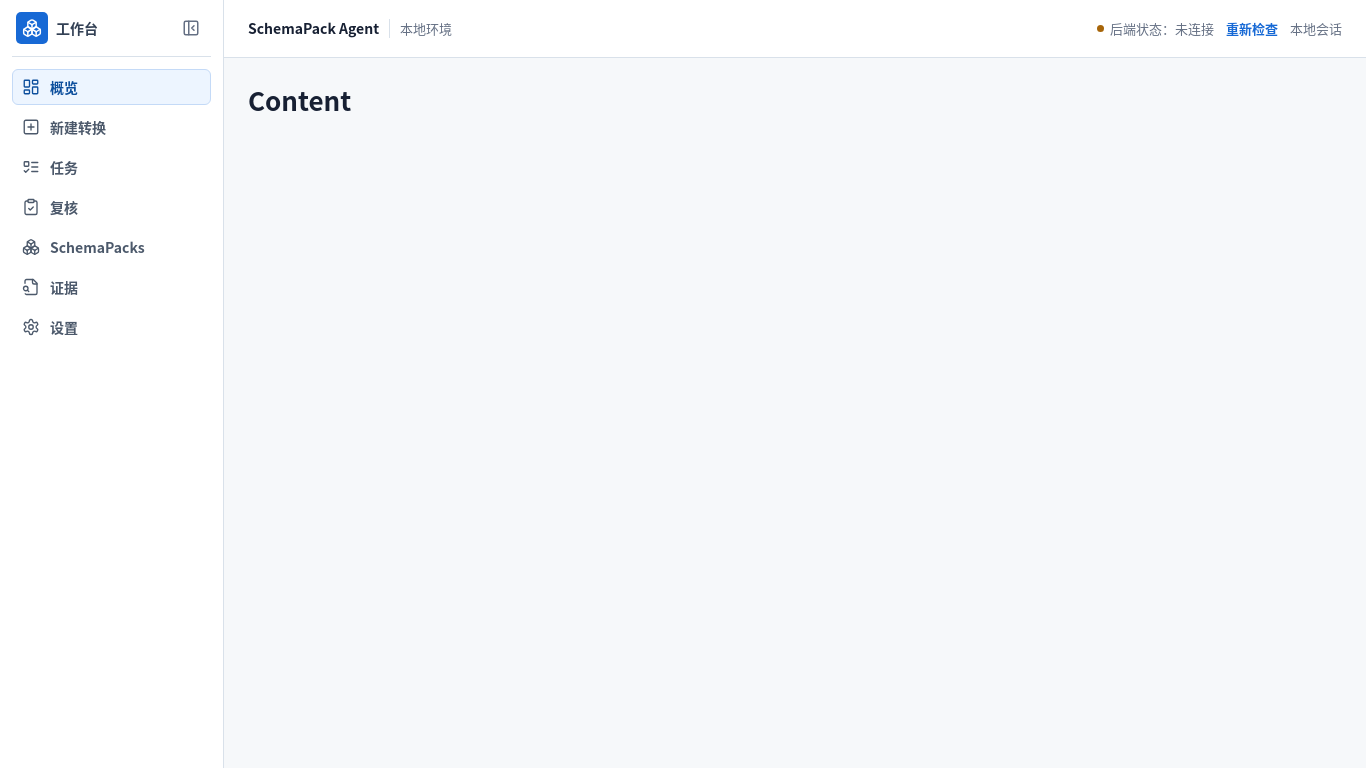
Test: AppShell › retries the health check from the Chinese refresh action
Expected: the text "后端状态：未连接" is shown, [1097, 19, 1214, 38]
Click the button "重新检查". click: point(1252, 28)
box: [1226, 21, 1278, 36]
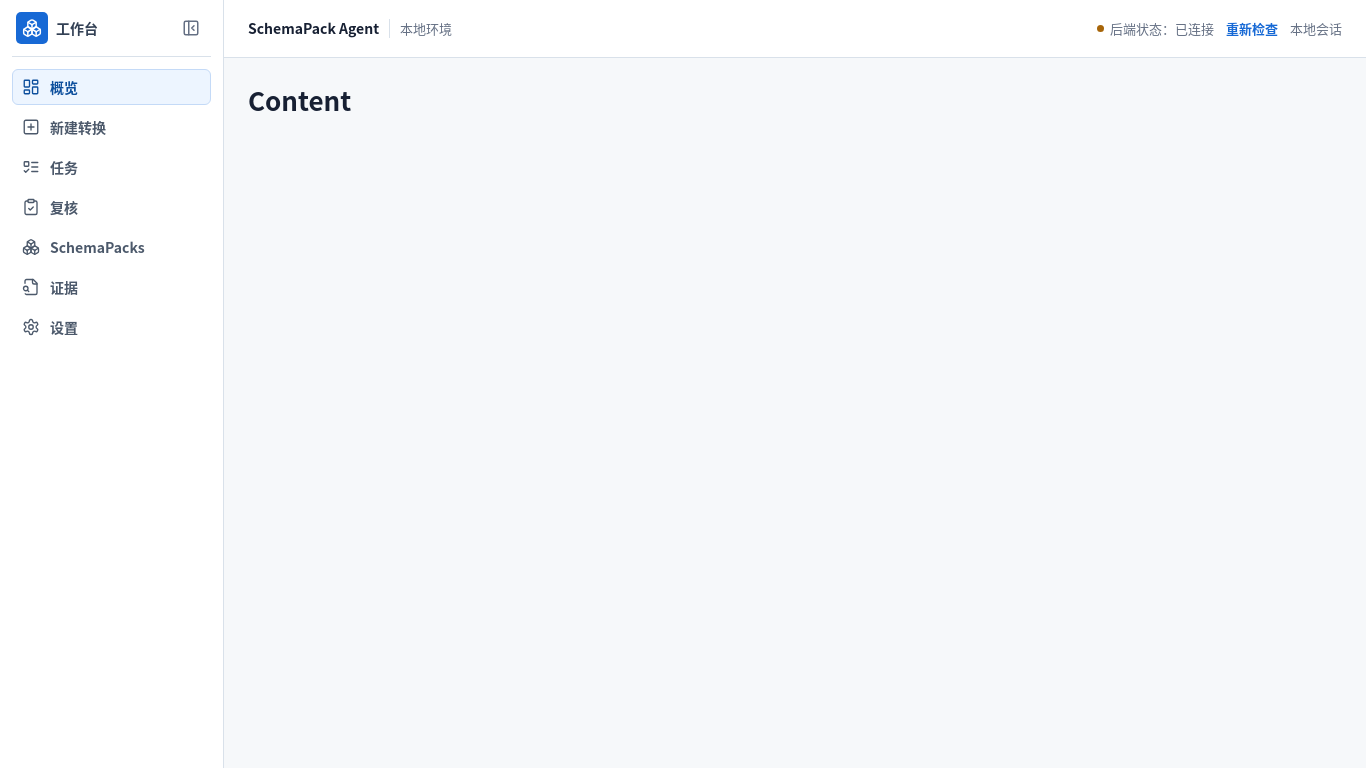
Expected: the text "后端状态：已连接" is shown, [1097, 19, 1214, 38]
